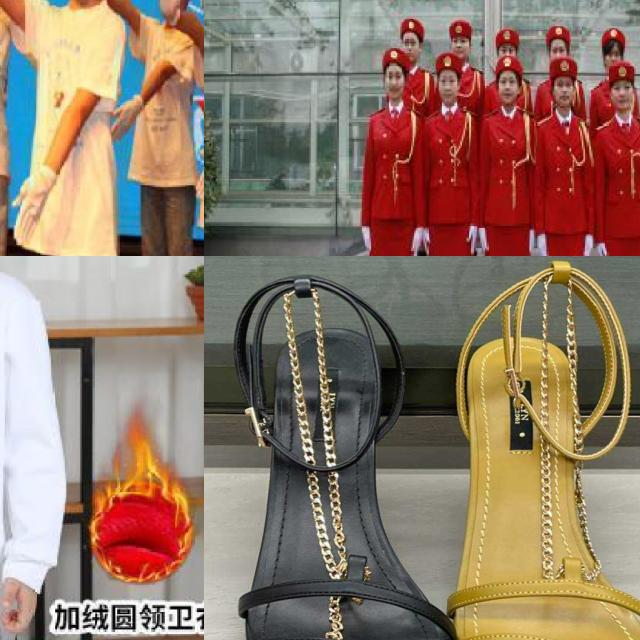Sandals: (204, 256, 476, 640), (450, 256, 640, 640)
face_nomask: (379, 62, 406, 100), (497, 71, 522, 107), (439, 70, 459, 105), (556, 76, 576, 106)
hand_glove: (10, 170, 48, 255), (110, 94, 142, 142), (154, 0, 183, 27), (193, 136, 204, 203), (410, 226, 423, 256), (420, 224, 432, 256), (468, 223, 479, 256), (535, 232, 548, 256), (477, 228, 488, 256), (360, 228, 373, 251), (583, 231, 594, 256), (194, 0, 204, 23), (528, 231, 536, 256), (595, 243, 608, 256)
hand_noglove: (0, 577, 38, 634)
head_nohelmet: (376, 45, 411, 71), (445, 18, 476, 43), (550, 56, 576, 85), (494, 53, 522, 79), (608, 64, 634, 92), (435, 51, 461, 77), (399, 17, 426, 41), (495, 27, 519, 52), (600, 28, 624, 51), (546, 26, 570, 47)
person: (0, 0, 136, 256), (0, 256, 61, 640), (126, 0, 202, 256), (414, 40, 477, 256), (352, 40, 412, 256), (534, 52, 588, 256), (586, 63, 640, 256), (480, 48, 524, 256)
